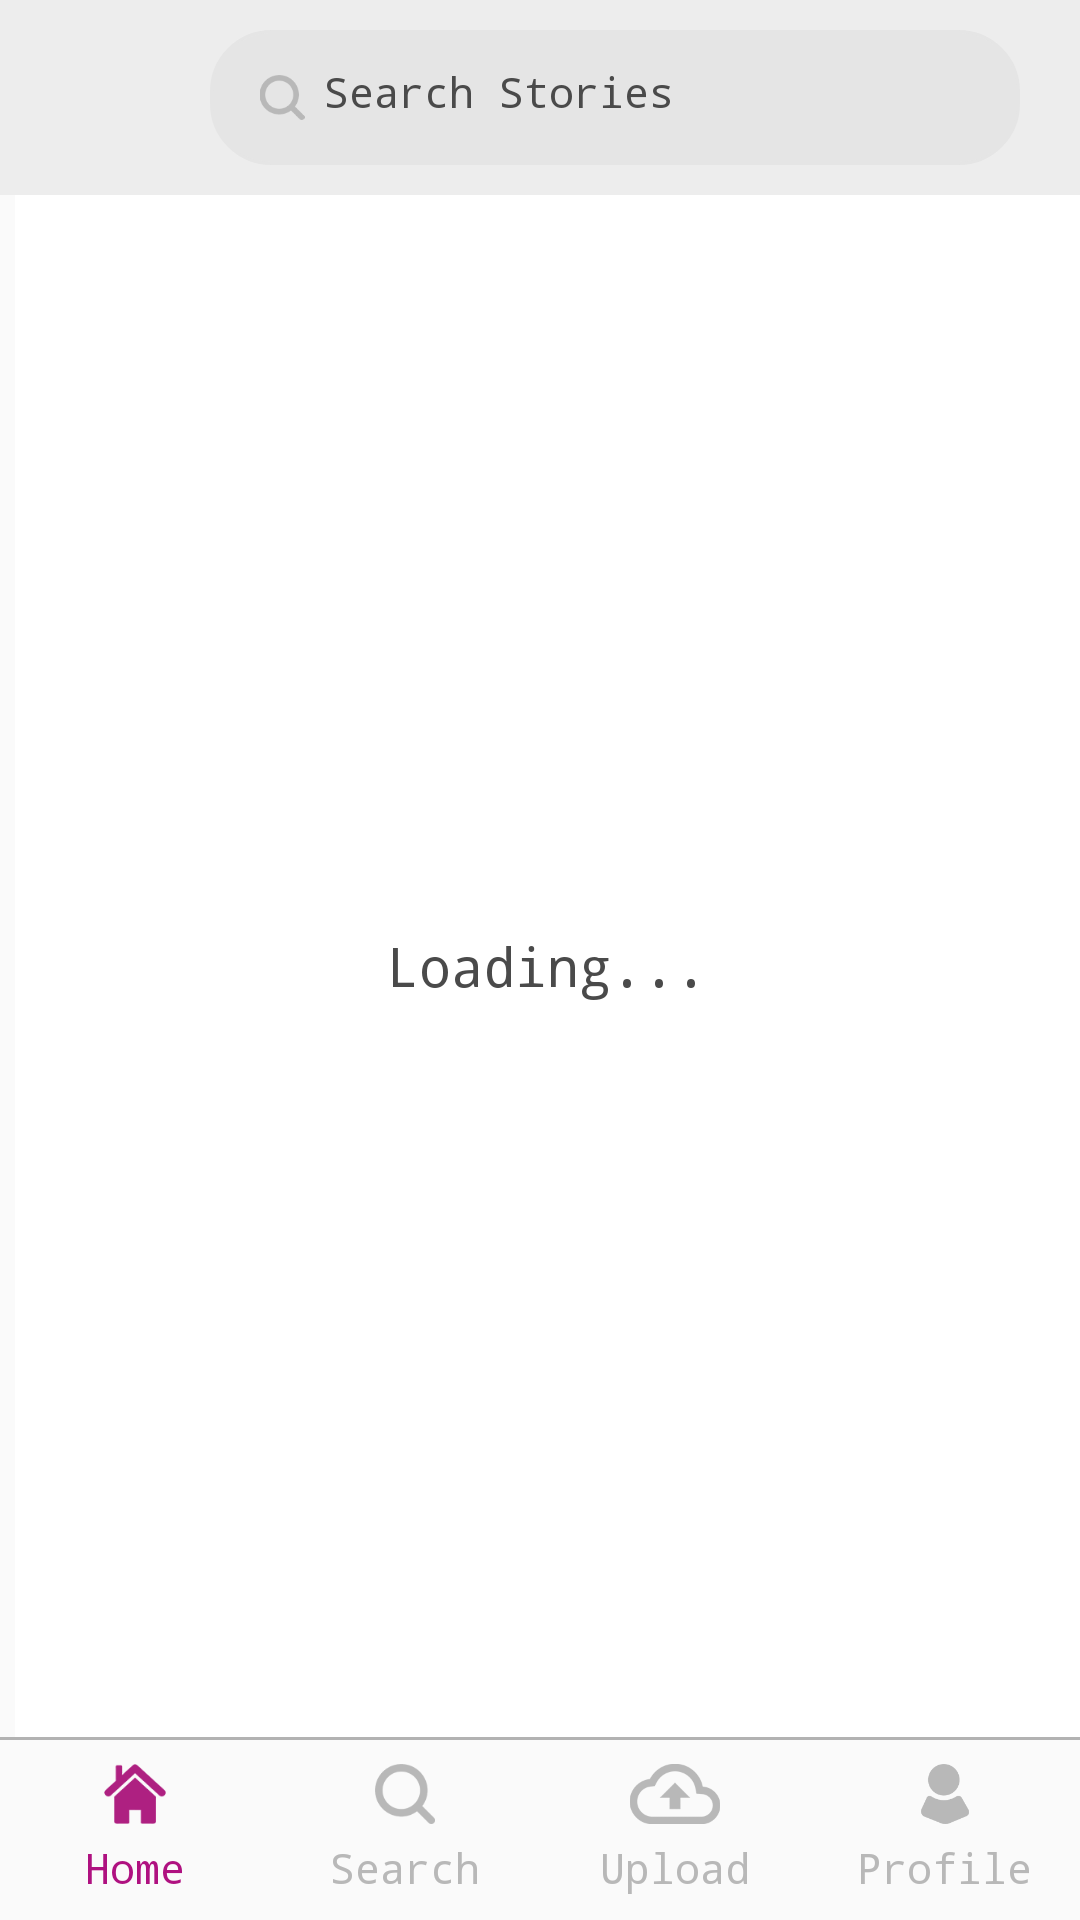

Named icons in this screenshot (1080 × 1920) and their centers, point (x, y):
user: point (945, 1794)
